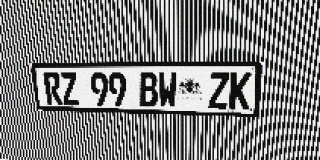9: (90, 72, 110, 106), (108, 72, 127, 106)
B: (139, 72, 158, 107)
K: (229, 72, 252, 109)
R: (43, 72, 63, 105)
W: (158, 72, 177, 108)
Z: (208, 72, 230, 109), (59, 72, 80, 105)
